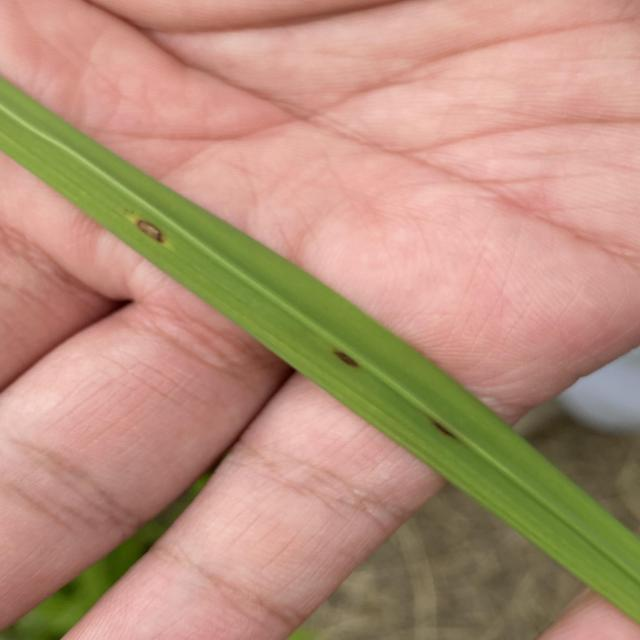Dom nau: (127, 215, 169, 245), (331, 347, 364, 370), (433, 417, 460, 440)
